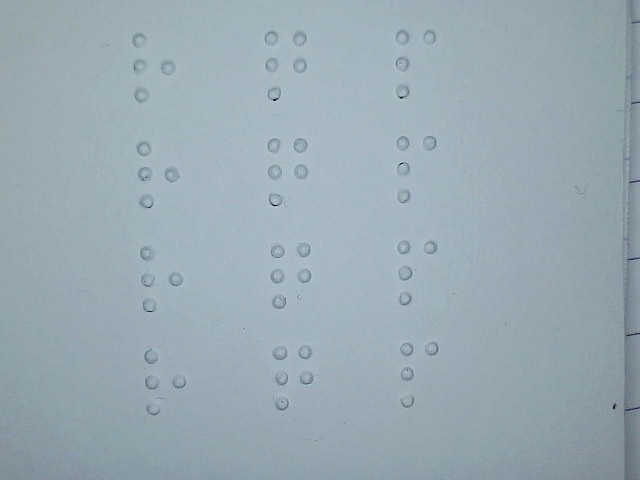P: (392, 27, 439, 101), (392, 131, 439, 205), (393, 234, 440, 308), (395, 337, 442, 411)
Q: (262, 28, 309, 102), (264, 134, 311, 208), (267, 238, 314, 312), (270, 340, 317, 414)
R: (130, 30, 177, 104), (134, 138, 181, 212), (137, 242, 184, 316), (142, 345, 189, 419)
